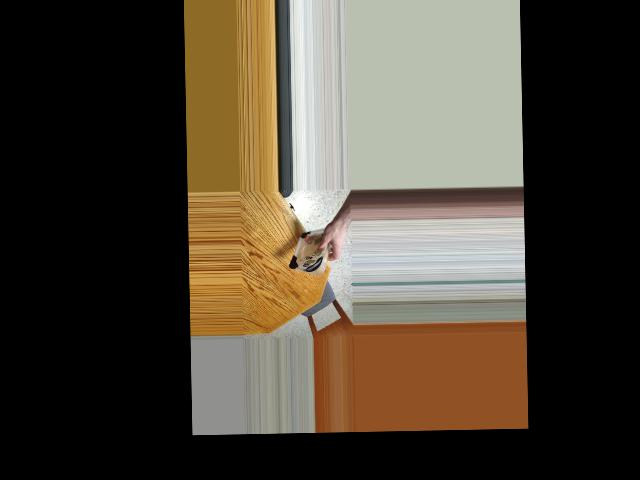cheese: (291, 223, 328, 272)
